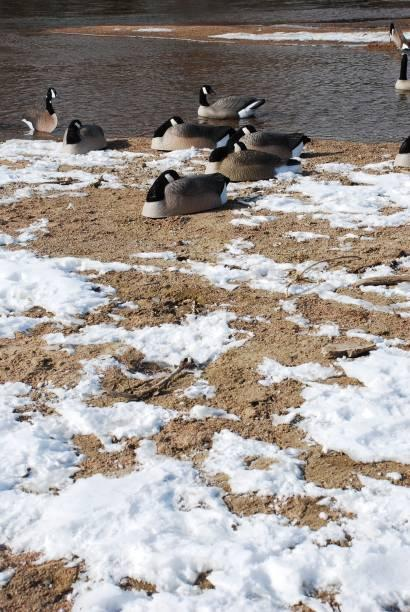Canadian-Goose: (209, 143, 296, 185), (143, 171, 232, 208), (152, 117, 231, 148), (188, 84, 259, 118), (235, 127, 307, 157), (11, 87, 59, 131), (65, 118, 109, 151)
